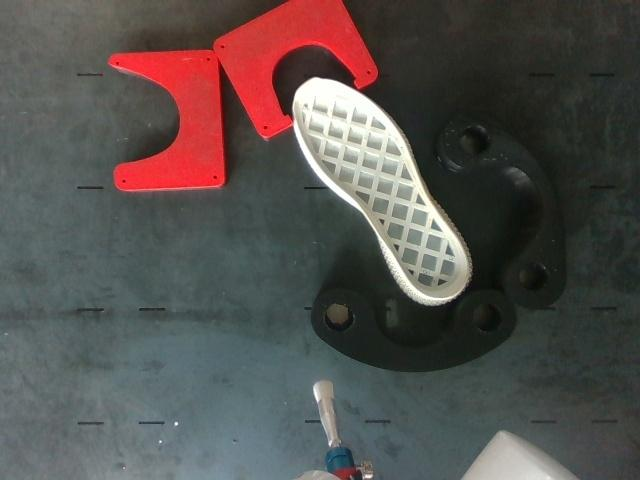shoes: (294, 79, 470, 299)
